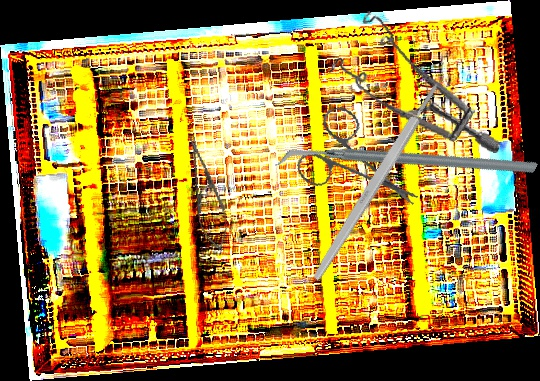Chopper: (274, 55, 540, 272)
Iris Scissors: (286, 95, 420, 228)
Needle Holder: (178, 131, 235, 255)
Scalpel Handle: (309, 79, 444, 284)
Speculum: (320, 6, 518, 154)
